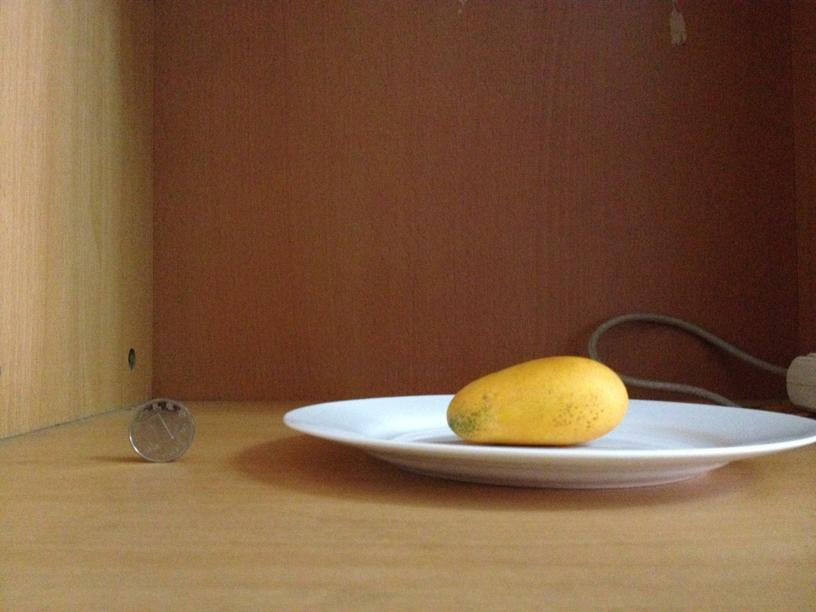coin: (128, 398, 195, 461)
mango: (443, 352, 630, 446)
